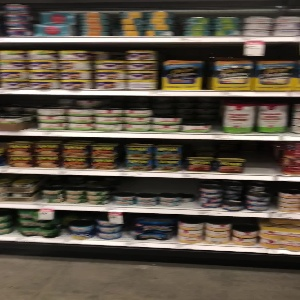void: (243, 140, 279, 176)
